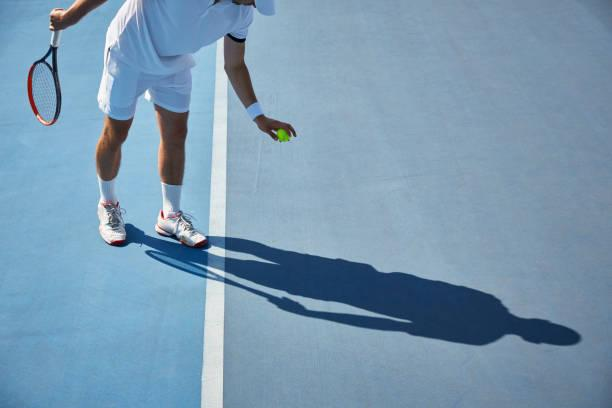ball_tennis: (276, 126, 289, 144)
